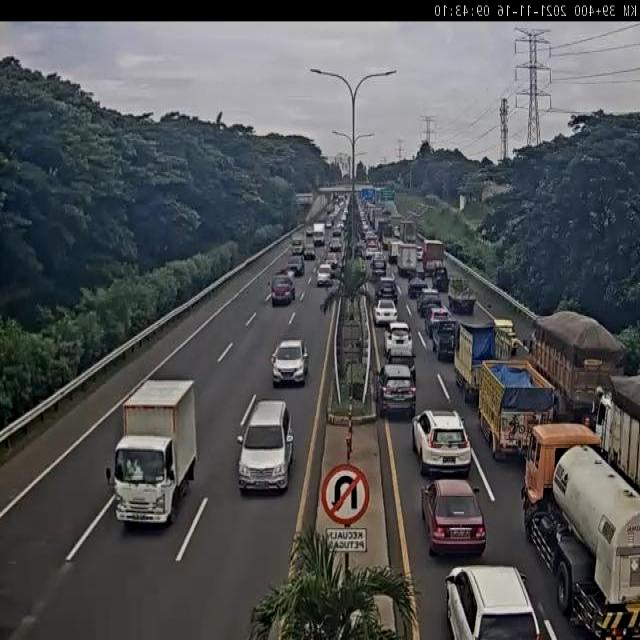Car: (444, 563, 541, 640), (418, 476, 485, 558), (237, 401, 292, 492), (412, 410, 470, 477), (373, 362, 418, 420), (270, 339, 308, 386), (382, 321, 416, 357), (384, 345, 418, 380), (493, 316, 519, 352), (371, 297, 399, 328), (423, 306, 449, 337), (417, 287, 442, 318), (375, 277, 400, 307), (286, 253, 306, 274), (316, 263, 332, 286), (303, 243, 317, 260), (326, 252, 338, 270), (328, 237, 342, 252), (415, 246, 425, 260), (332, 226, 342, 237), (306, 224, 314, 237)
Truck: (520, 416, 640, 640), (103, 378, 200, 530), (524, 308, 629, 427), (478, 357, 556, 463), (591, 370, 640, 489), (452, 319, 511, 402), (447, 275, 478, 315), (430, 318, 458, 358), (268, 273, 296, 307), (422, 240, 445, 275), (395, 243, 419, 276), (408, 270, 428, 298), (398, 218, 418, 244), (431, 265, 450, 290), (387, 239, 403, 264), (290, 230, 306, 254), (312, 222, 326, 248)
